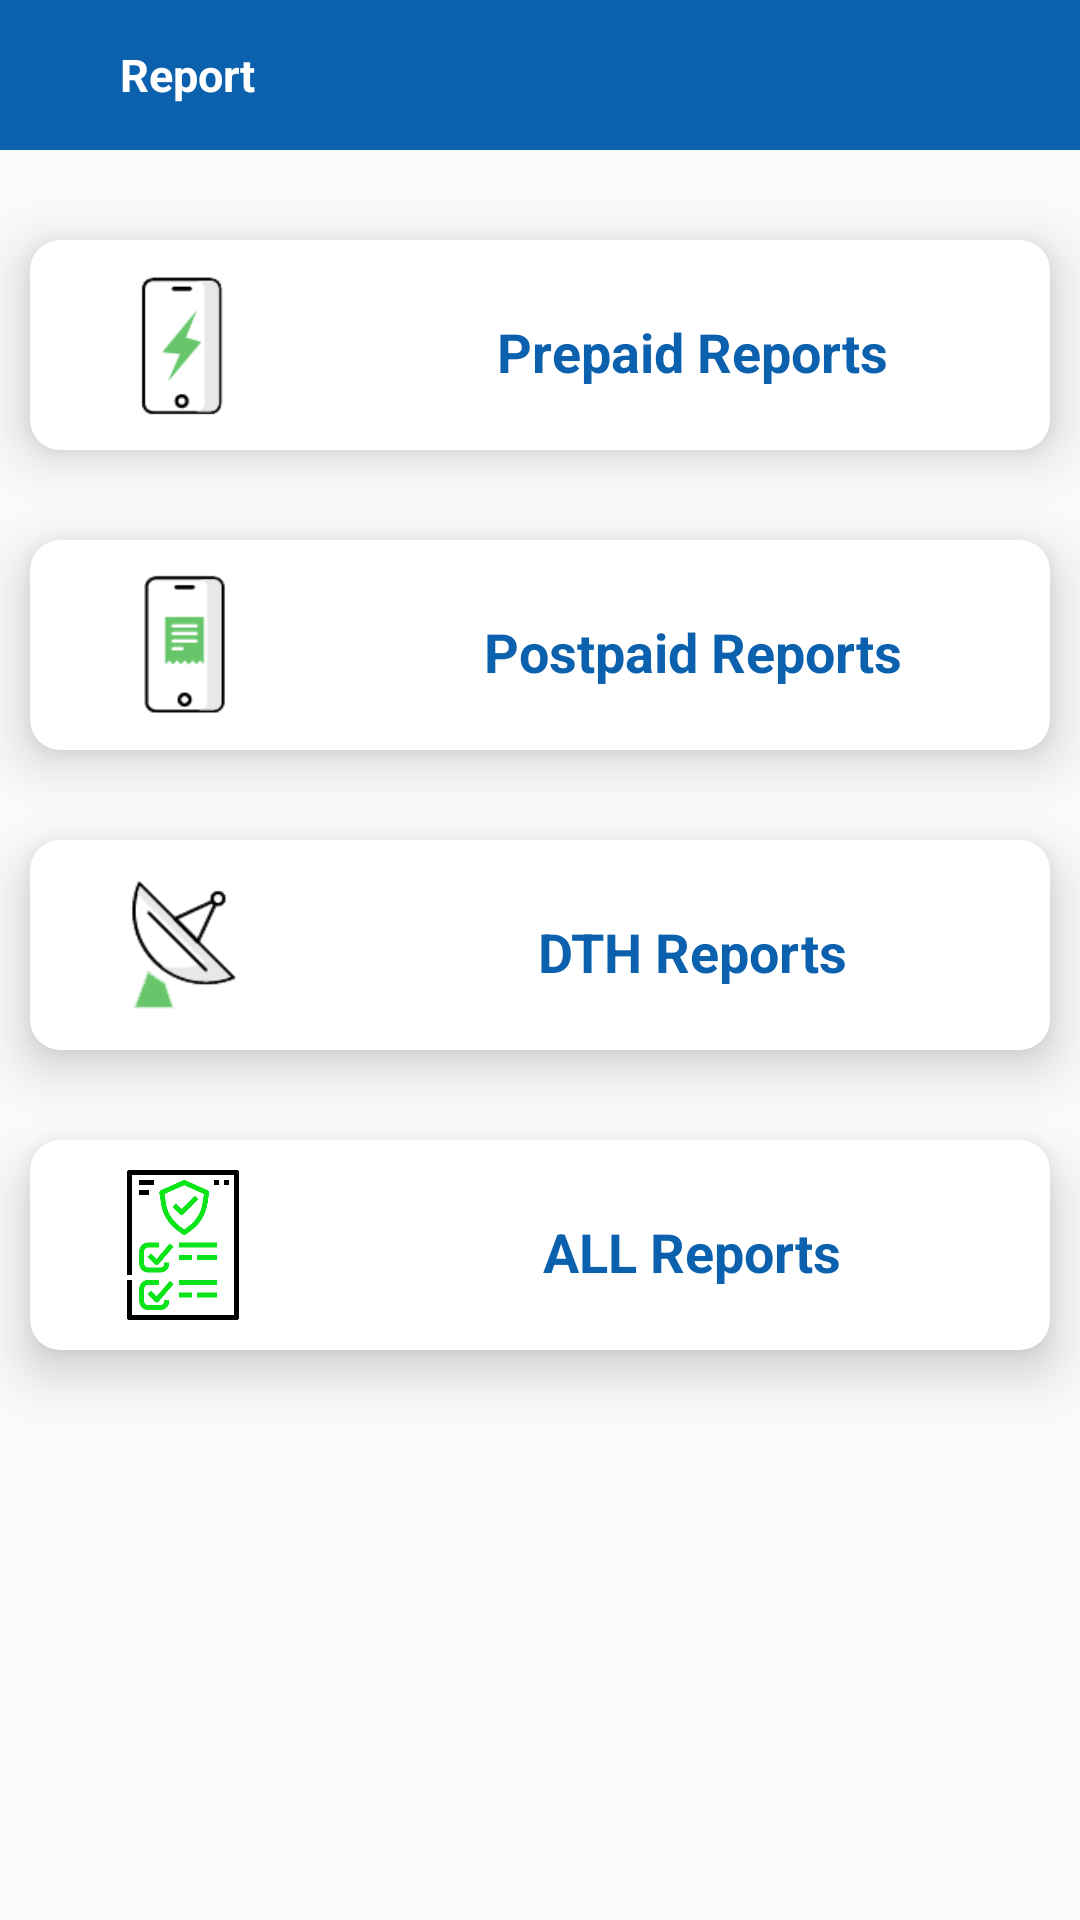

Where to tap for icons on this 1080x1920 app screen, as (x,y):
postpaid: (184,644)
prepaid: (182,346)
reports: (183,1245)
